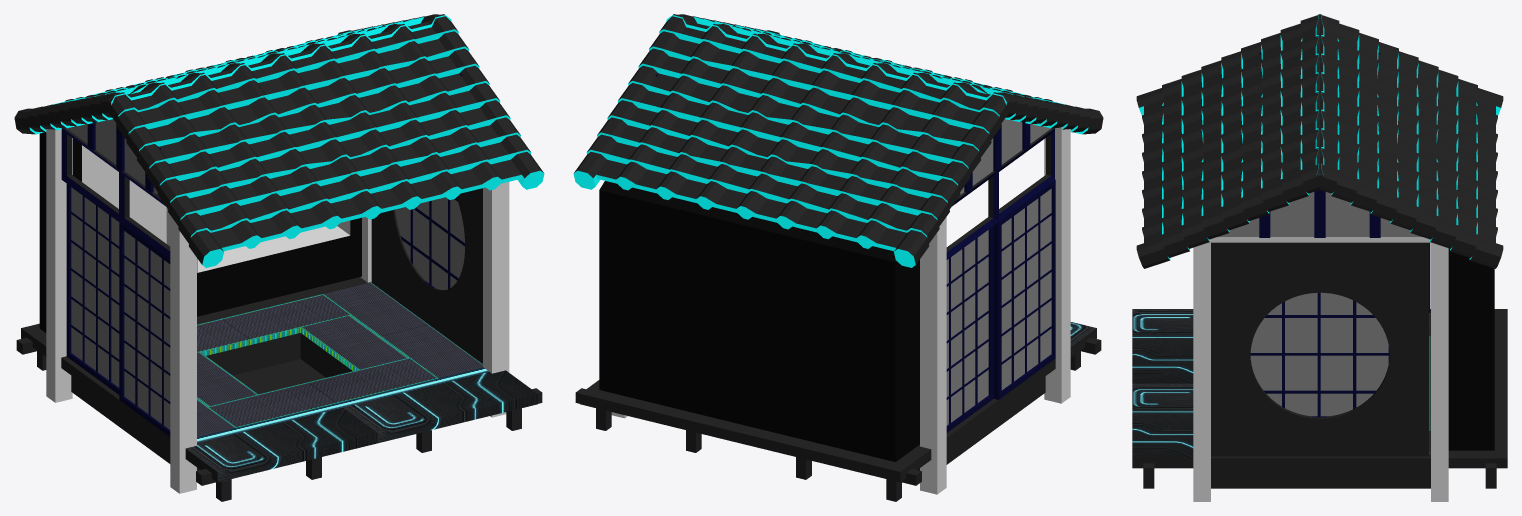
Rendered from newnumafes_yura.fbx.
3 views of the same model, side by side, from view 1: azimuth 30°, elevation 25°; view 2: azimuth 150°, elevation 25°; view 3: azimuth 270°, elevation 25° (orthographic). The views are drawn at different scales.
Visible parts, largest first — view 1: kawara, yuka, 立方体.001, syouji1, syouji2, 立方体, 立方体.004, 立方体.005, 立方体.002, syouji1.001, mado, sasae (+3 smaller); view 2: kawara, 立方体.001, syouji2, yuka, syouji1, 立方体.005, 立方体.004, mado, sasae, shikkui, hari; view 3: kawara, 立方体, yuka, syouji1.001, 立方体.001, 立方体.002, 立方体.003, shikkui, 立方体.006, hari, sasae.
Part boxes in pixels (box(x1,y1,x2,y2)): kawara: box(14, 14, 544, 267); yuka: box(21, 277, 537, 482); 立方体.001: box(39, 132, 361, 332); syouji1: box(66, 184, 119, 394); syouji2: box(119, 222, 170, 436); 立方体: box(371, 188, 482, 363); 立方体.004: box(170, 215, 196, 493); 立方体.005: box(46, 127, 72, 402); 立方体.002: box(483, 182, 509, 417); syouji1.001: box(395, 197, 464, 289); mado: box(61, 128, 170, 258); sasae: box(16, 337, 542, 501); kawara: box(573, 14, 1103, 267); 立方体.001: box(599, 181, 919, 461); syouji2: box(993, 180, 1055, 399); yuka: box(580, 322, 1096, 482); syouji1: box(946, 226, 993, 432); 立方体.005: box(920, 217, 946, 494); 立方体.004: box(1044, 127, 1070, 403); mado: box(946, 128, 1055, 259); sasae: box(575, 337, 1101, 501); shikkui: box(960, 119, 1050, 194); hari: box(655, 27, 1030, 192); kawara: box(1136, 14, 1503, 268); 立方体: box(1211, 242, 1429, 470); yuka: box(1132, 309, 1507, 488); syouji1.001: box(1250, 292, 1389, 417); 立方体.001: box(1448, 248, 1494, 450); 立方体.002: box(1193, 239, 1210, 501); 立方体.003: box(1431, 242, 1448, 501); shikkui: box(1218, 192, 1421, 236); 立方体.006: box(1211, 237, 1430, 242); hari: box(1259, 28, 1380, 237); sasae: box(1143, 463, 1496, 488).
Size of the model in its own units: 680 by 668 by 680.
